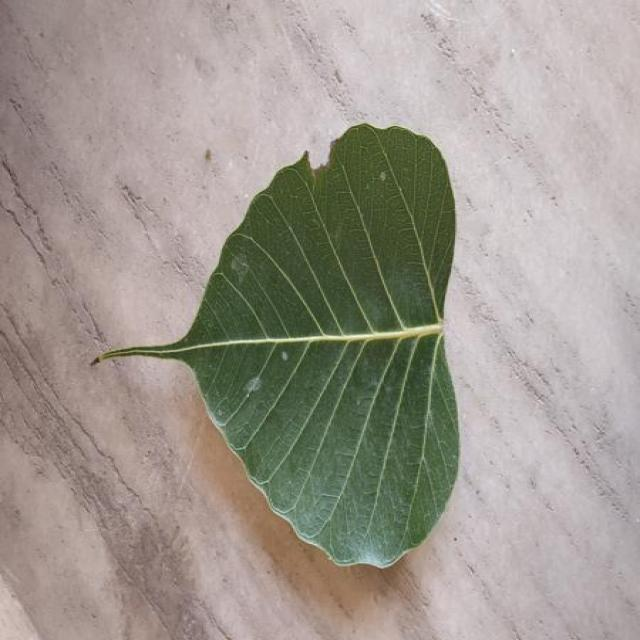arali: (95, 124, 457, 567)
